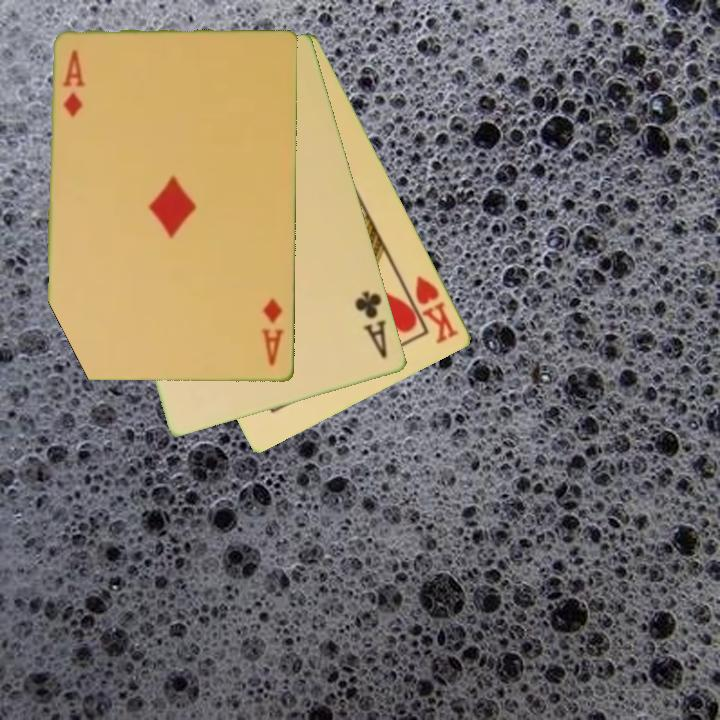Ac: (351, 287, 391, 362)
Ad: (258, 295, 287, 369), (60, 47, 88, 120)
Kh: (399, 271, 462, 347)
